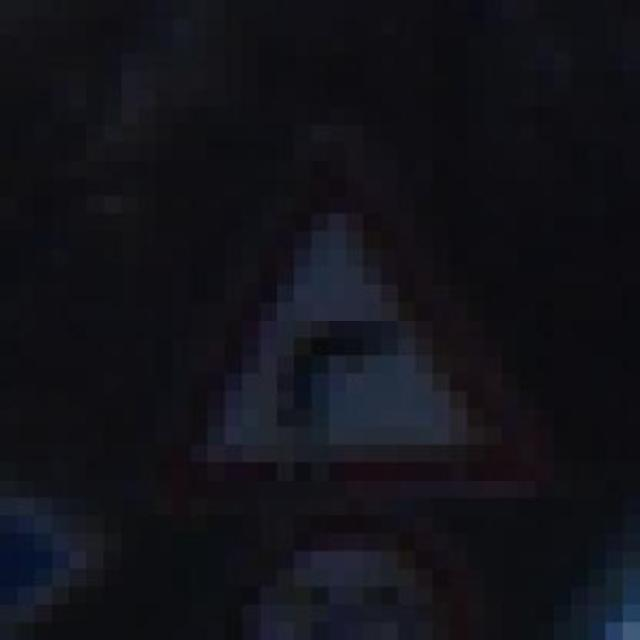Dangerous Rright Curve Ahead: (121, 124, 519, 516)
